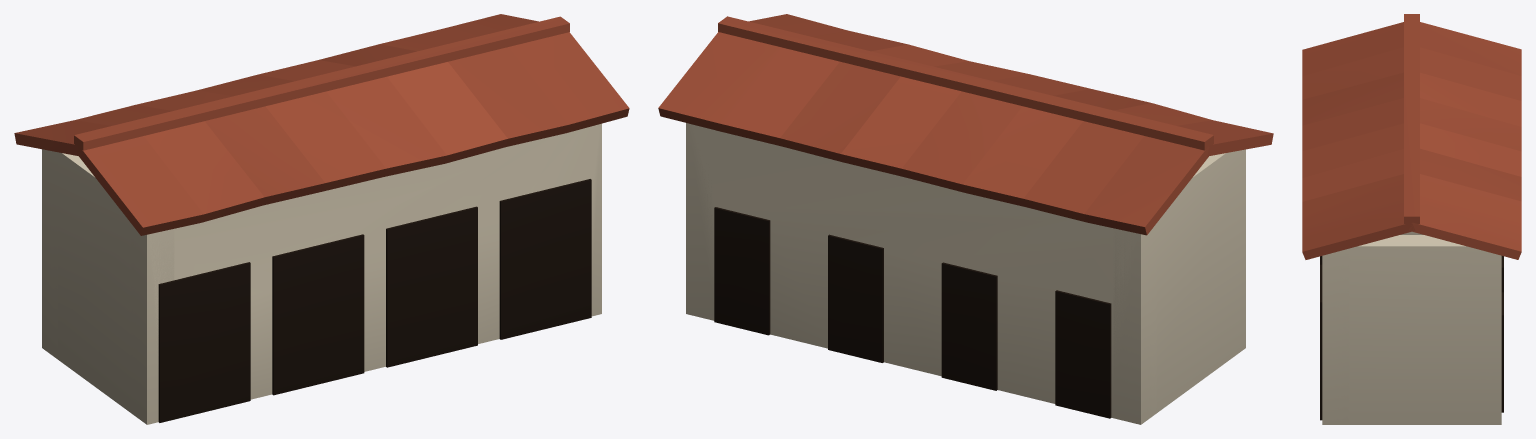
The model's file is colonial_portal_lod0.glb.
The picture shows the model from 3 angles, left to right: view 1: azimuth 30°, elevation 25°; view 2: azimuth 150°, elevation 25°; view 3: azimuth 270°, elevation 25°; orthographic projection. The views are drawn at different scales.
Visible parts, largest first — view 1: GEO-Arch_colonial_portal_LOD0; view 2: GEO-Arch_colonial_portal_LOD0; view 3: GEO-Arch_colonial_portal_LOD0.
Boxes of the visible parts, <box> form: GEO-Arch_colonial_portal_LOD0: <box>14,14,629,424</box>; GEO-Arch_colonial_portal_LOD0: <box>658,14,1273,424</box>; GEO-Arch_colonial_portal_LOD0: <box>1302,14,1521,424</box>.
Size of the model in its own units: 10.7 by 5.29 by 4.9.
